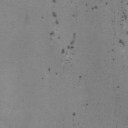oxide scale of temperature system: (40, 0, 76, 54), (72, 0, 108, 16), (110, 38, 126, 62), (118, 2, 128, 26), (46, 66, 58, 76), (116, 84, 121, 89), (84, 102, 89, 106), (72, 112, 77, 116), (78, 75, 82, 78)
